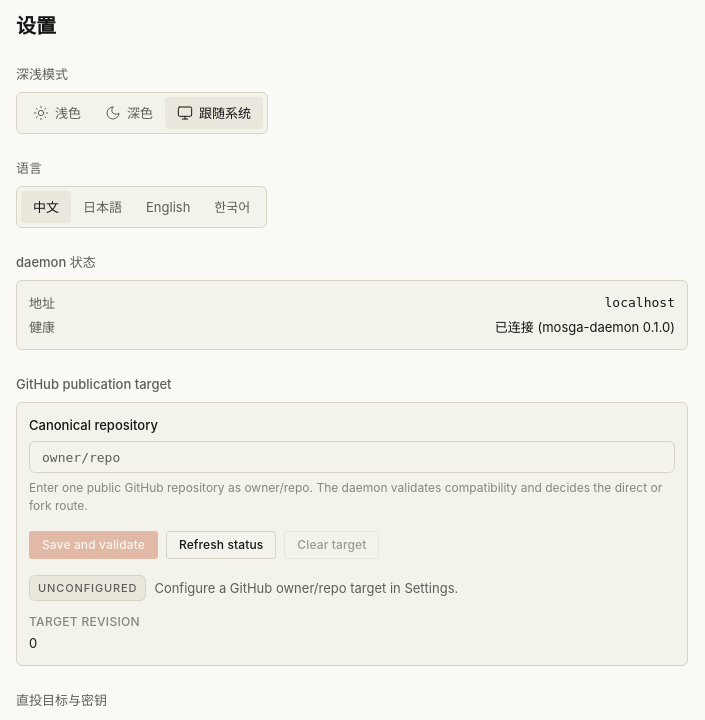
Test: SettingsPage — GitHub publication target › treats an HTTP-success blocked status as blocked, including no-target
The width and height of the screenshot is (705, 720).
Type "community/dataset" into the field labelled "Canonical repository" at (352,457), box x1=29 y1=441 x2=675 y2=473
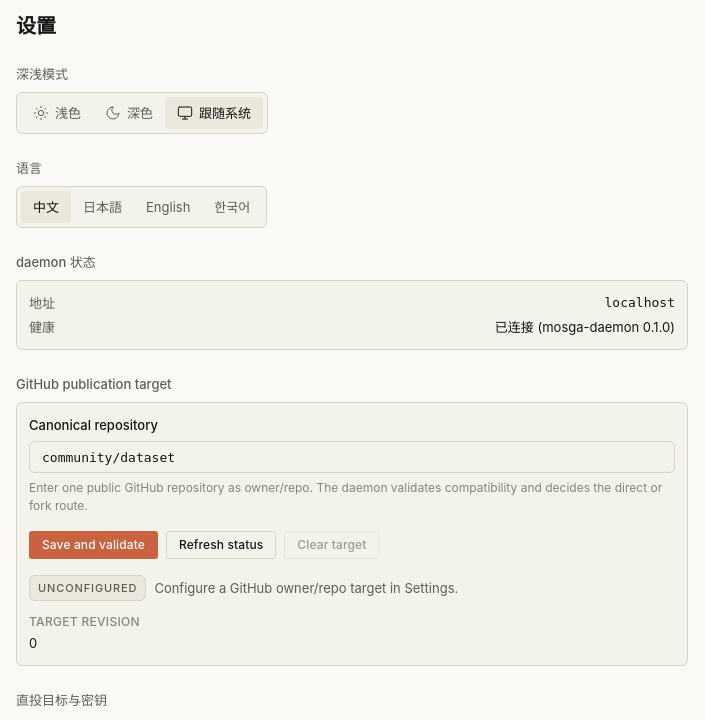
Click the button "Save and validate" at (93,545), box x1=29 y1=531 x2=158 y2=559
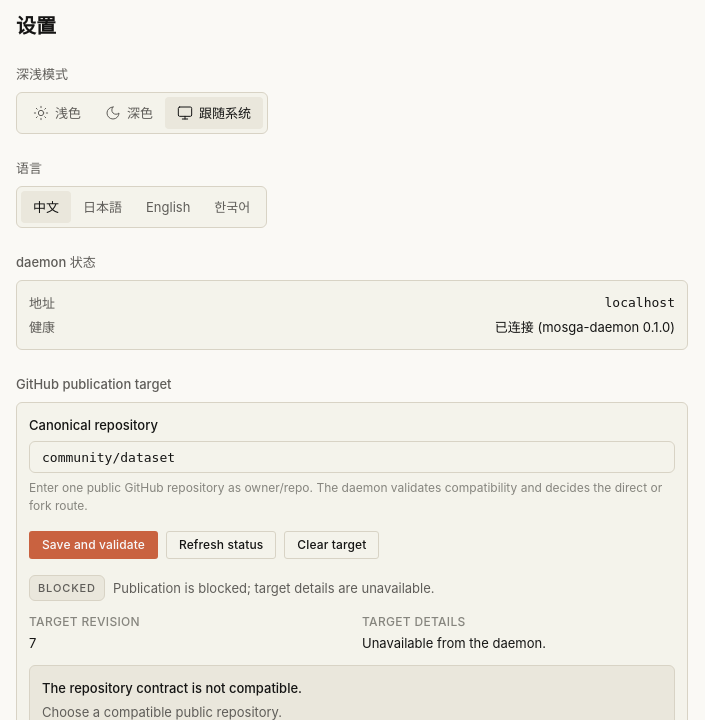
expect the text "Blocked" is shown: met, box x1=29 y1=575 x2=105 y2=601
expect the text "Publication is blocked; target details are unavailable." is shown: met, box x1=113 y1=578 x2=434 y2=598
